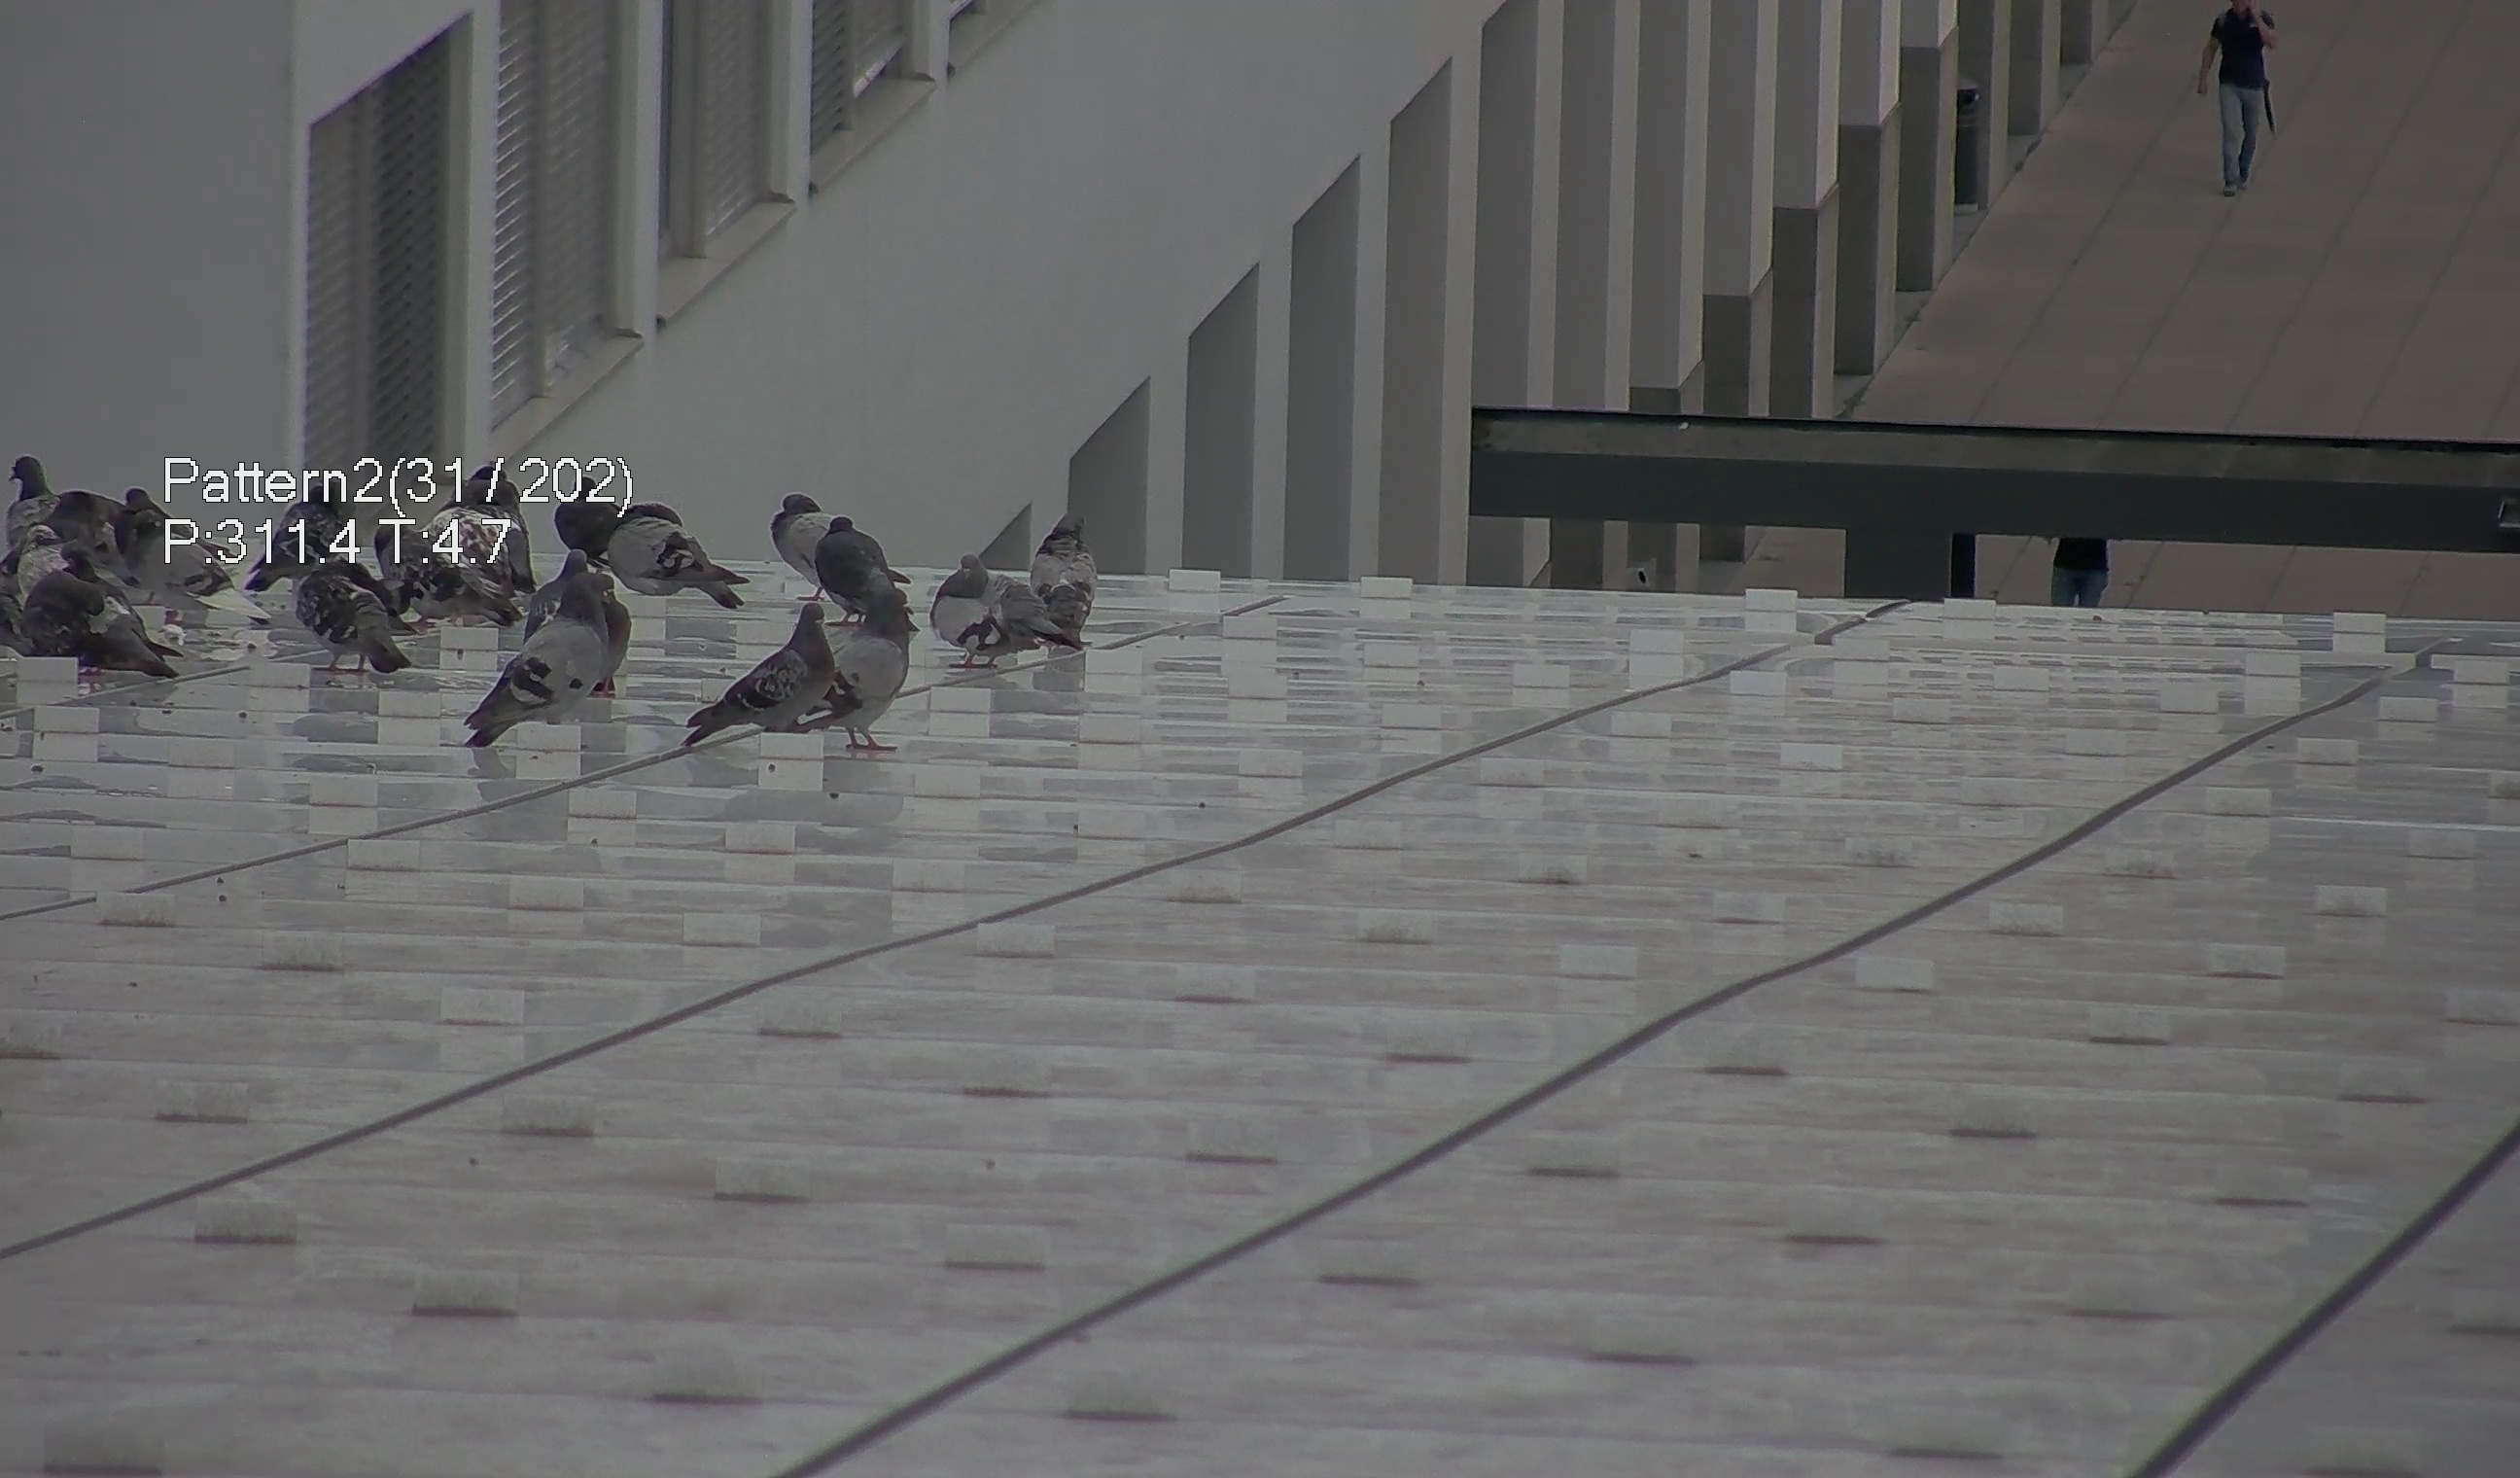Pigeon: (457, 581, 610, 741), (675, 600, 839, 743), (274, 538, 412, 684), (593, 496, 751, 621), (32, 558, 181, 688), (925, 554, 1089, 670), (811, 598, 918, 755), (127, 510, 262, 625), (244, 466, 361, 595), (1036, 505, 1108, 653), (816, 514, 913, 614), (768, 487, 839, 596), (563, 470, 617, 556), (5, 442, 55, 531)
